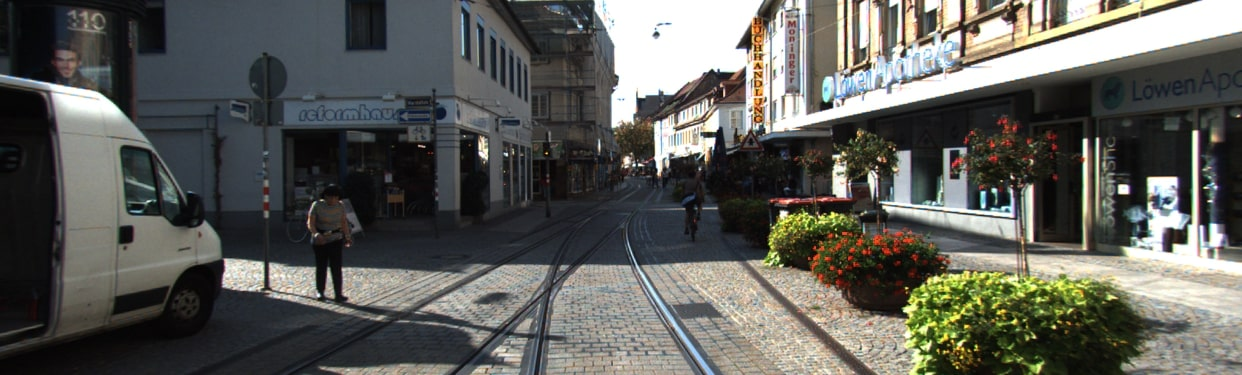Cyclist: (669, 168, 725, 246)
car: (6, 68, 230, 353)
person: (304, 178, 358, 314)
